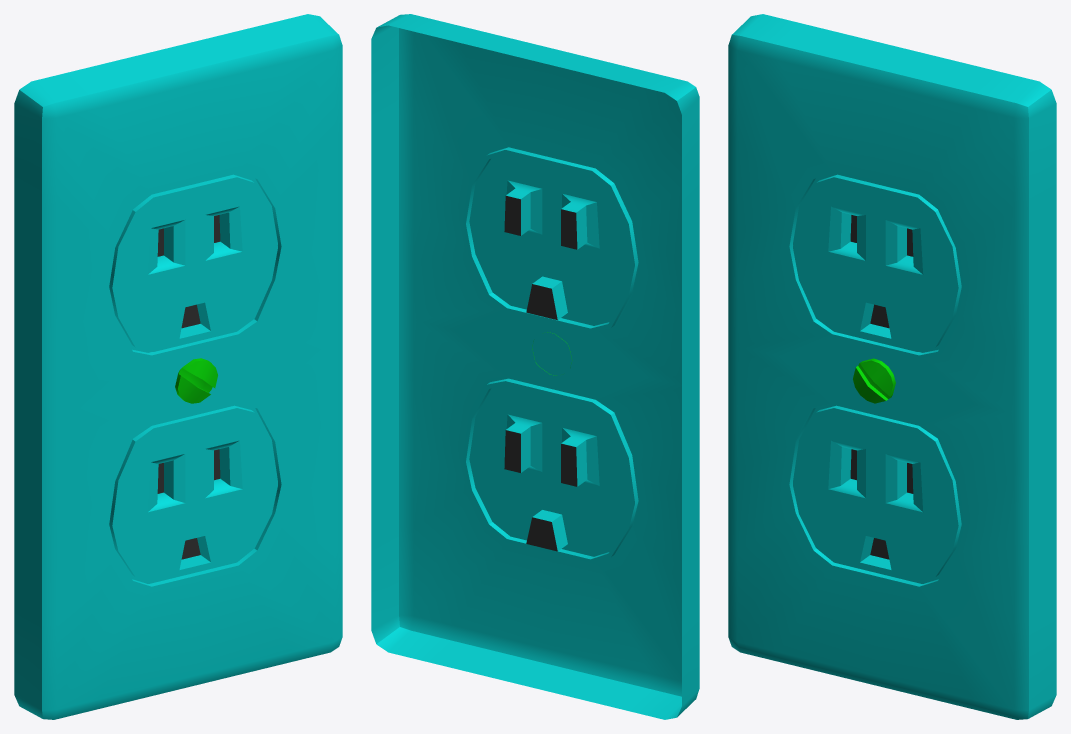
The model's file is outlet.fbx.
The picture shows the model from 3 angles, left to right: view 1: azimuth 30°, elevation 25°; view 2: azimuth 150°, elevation 25°; view 3: azimuth 330°, elevation 25°; orthographic projection.
Parts seen in each view (by area): view 1: outlet; view 2: outlet; view 3: outlet.
Part boxes in pixels (x1=…): outlet: x1=14, y1=14, x2=342, y2=719; outlet: x1=371, y1=14, x2=699, y2=719; outlet: x1=728, y1=14, x2=1056, y2=719.
Size of the model in its own units: 2.12 by 4.09 by 0.3637.
